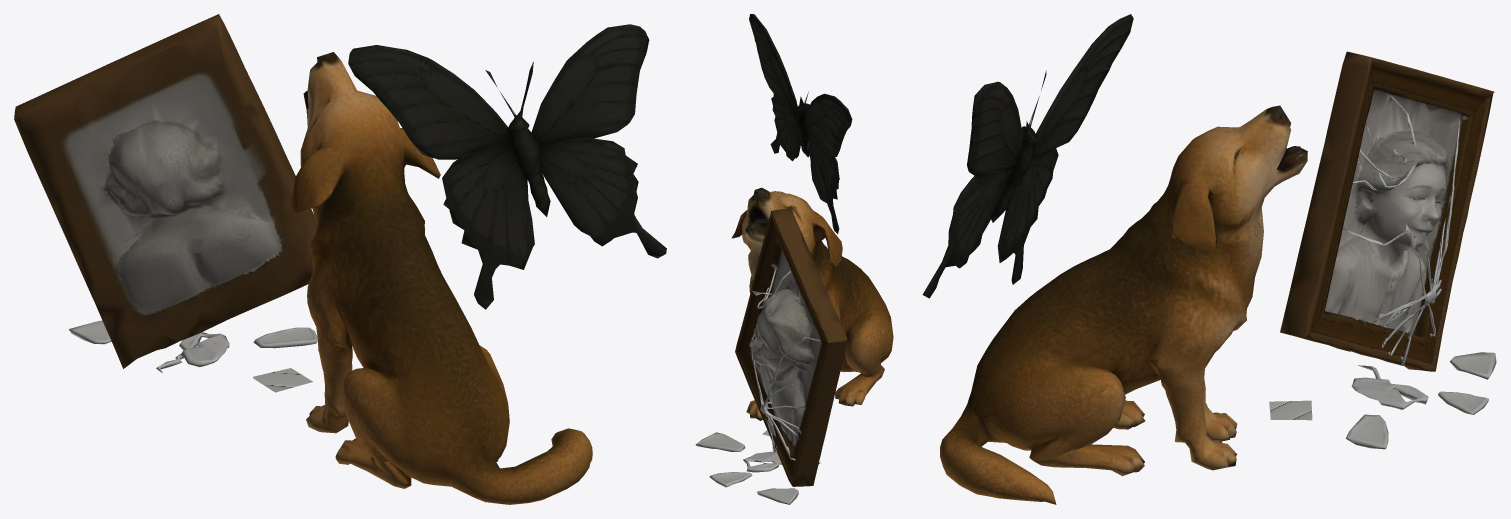
File: Pahiwating.glb
3 views of the same model, side by side, from view 1: azimuth 30°, elevation 25°; view 2: azimuth 150°, elevation 25°; view 3: azimuth 270°, elevation 25° (orthographic). The views are drawn at different scales.
Visible parts, largest first — view 1: tripo_node_badb6c6a-5b85-46cb-8bee-2a849fadf3a7; view 2: tripo_node_badb6c6a-5b85-46cb-8bee-2a849fadf3a7; view 3: tripo_node_badb6c6a-5b85-46cb-8bee-2a849fadf3a7.
Boxes of the visible parts, <box> form: tripo_node_badb6c6a-5b85-46cb-8bee-2a849fadf3a7: <box>14,14,666,504</box>; tripo_node_badb6c6a-5b85-46cb-8bee-2a849fadf3a7: <box>695,14,893,504</box>; tripo_node_badb6c6a-5b85-46cb-8bee-2a849fadf3a7: <box>922,14,1496,504</box>.
Bounding box in the file's own units: 0.7603 × 0.8336 × 0.9808.
Materials: 1 (1 with a texture image).
